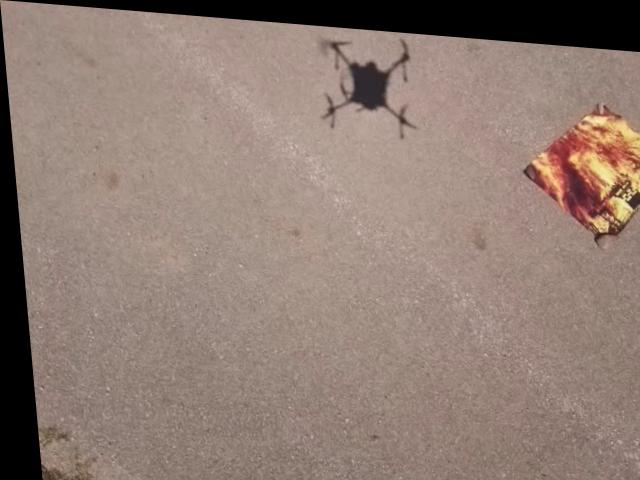fire-poster: (514, 85, 640, 243)
